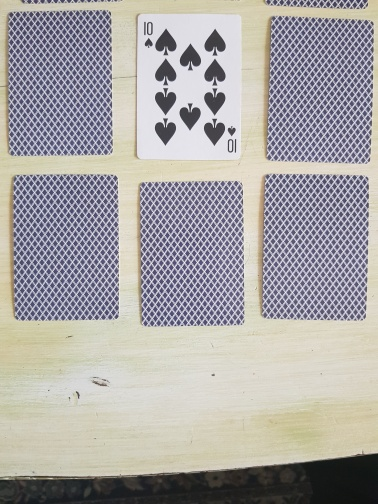ten: (135, 13, 243, 161)
